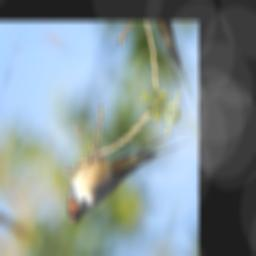Swallow: (62, 77, 191, 256)
